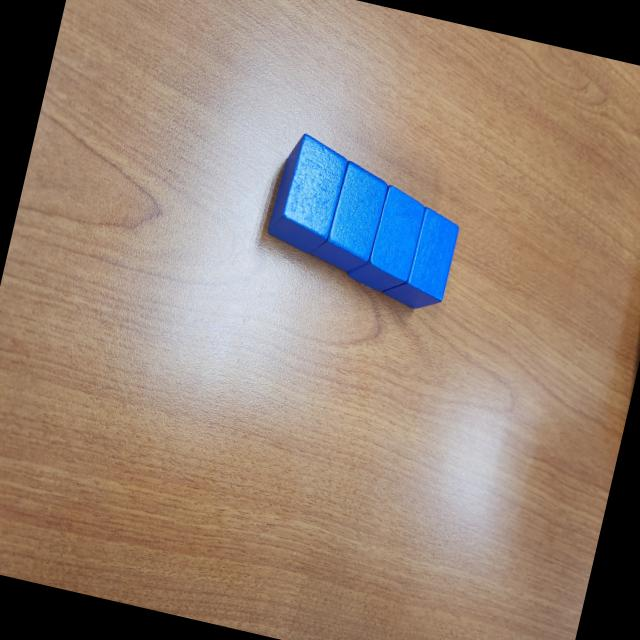blue: (264, 130, 352, 257), (306, 154, 393, 278), (344, 180, 430, 298), (380, 202, 462, 314)
